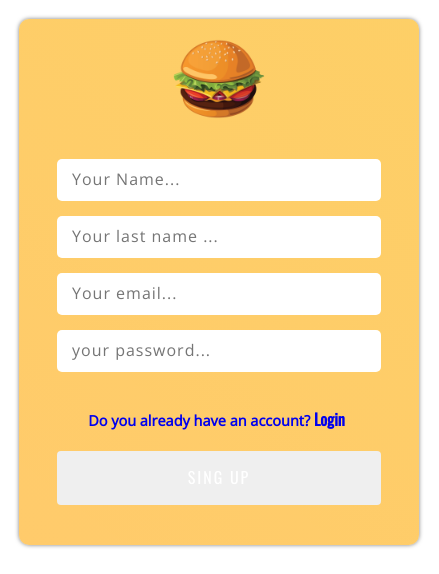
Scenario: form validations › diplay password error message
Type "foo" into the password field with test id "passwordInput" at (219,351), box x1=57 y1=330 x2=381 y2=372
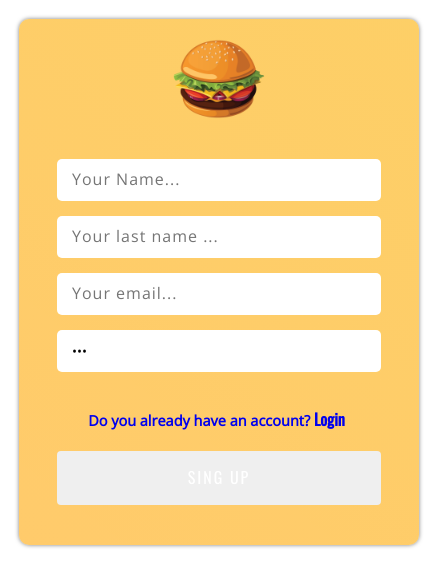
Leave the password field with test id "passwordInput", box x1=57 y1=330 x2=381 y2=372
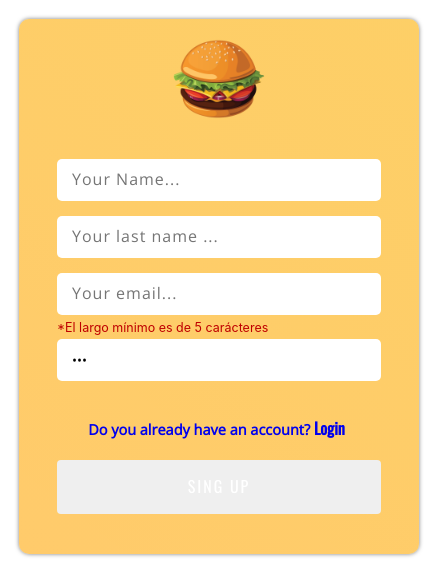
expect the text "*El largo mínimo es de 5 carácteres" is shown: met, box x1=57 y1=320 x2=268 y2=335
Type "longsecretpasword" into the password field with test id "passwordInput" at (219,360), box x1=57 y1=339 x2=381 y2=381
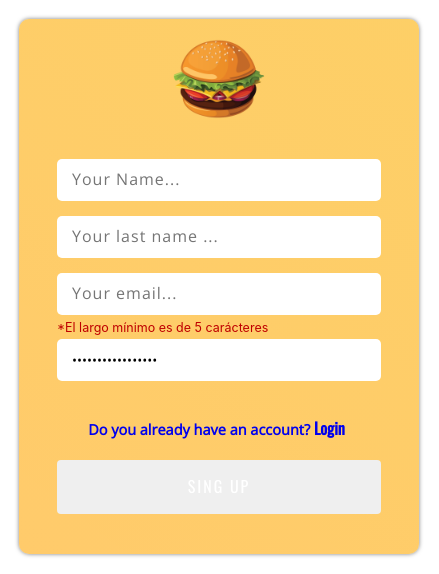
Leave the password field with test id "passwordInput", box x1=57 y1=339 x2=381 y2=381
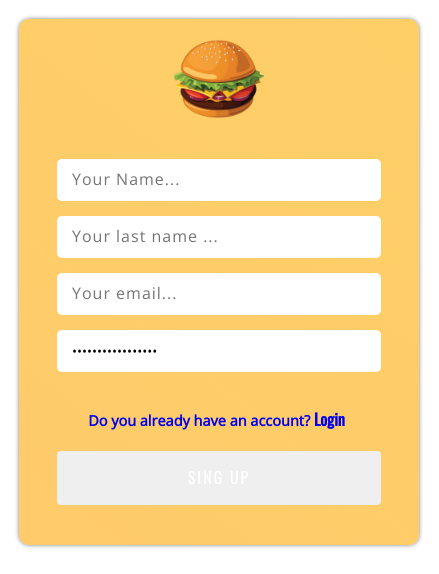
expect the text "*El largo mínimo es de 5 carácteres" is gone: met
